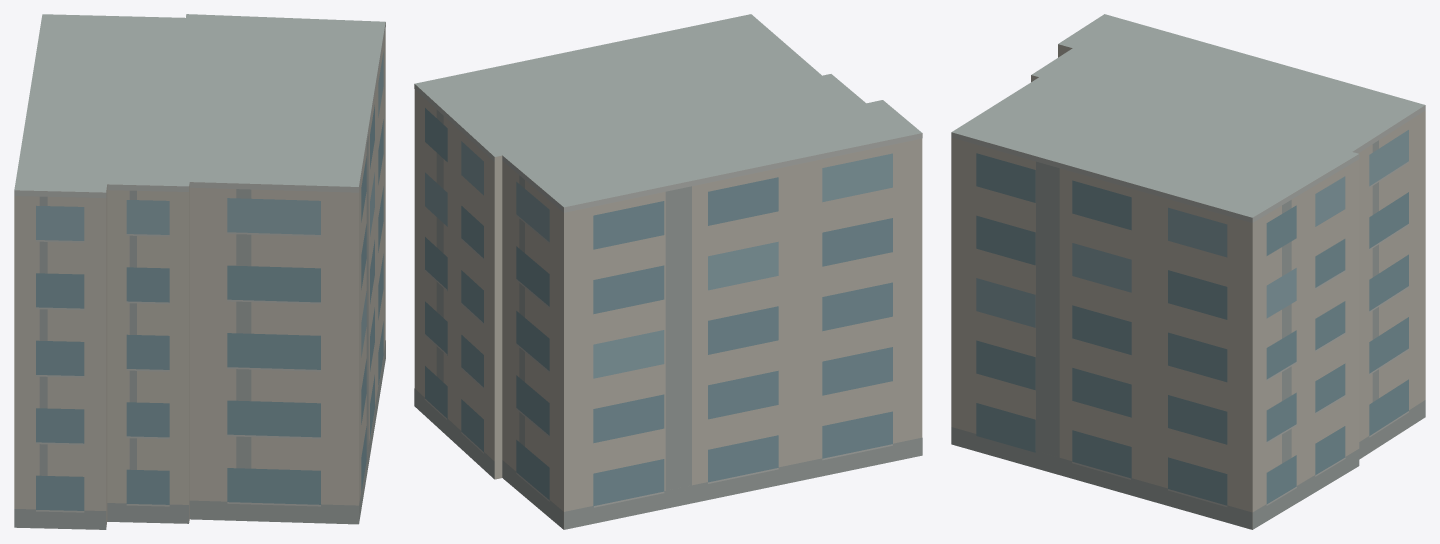
The model's file is survey-upis-32487881.glb.
3 views of the same model, side by side, from view 1: azimuth 30°, elevation 25°; view 2: azimuth 150°, elevation 25°; view 3: azimuth 270°, elevation 25° (orthographic). The views are drawn at different scales.
Parts seen in each view (by area): view 1: survey-upis-32487881.tmp; view 2: survey-upis-32487881.tmp; view 3: survey-upis-32487881.tmp.
Boxes of the visible parts, left/top/right/bottom form: survey-upis-32487881.tmp: left=14, top=14, right=385, bottom=529; survey-upis-32487881.tmp: left=414, top=14, right=922, bottom=529; survey-upis-32487881.tmp: left=951, top=14, right=1425, bottom=529.
Bounding box in the file's own units: 20.31 × 14.5 × 19.97.
